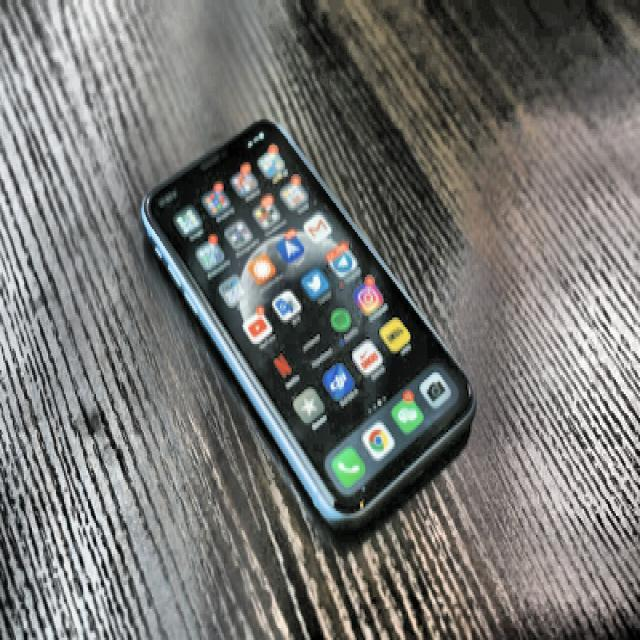Phone: (144, 113, 476, 542)
